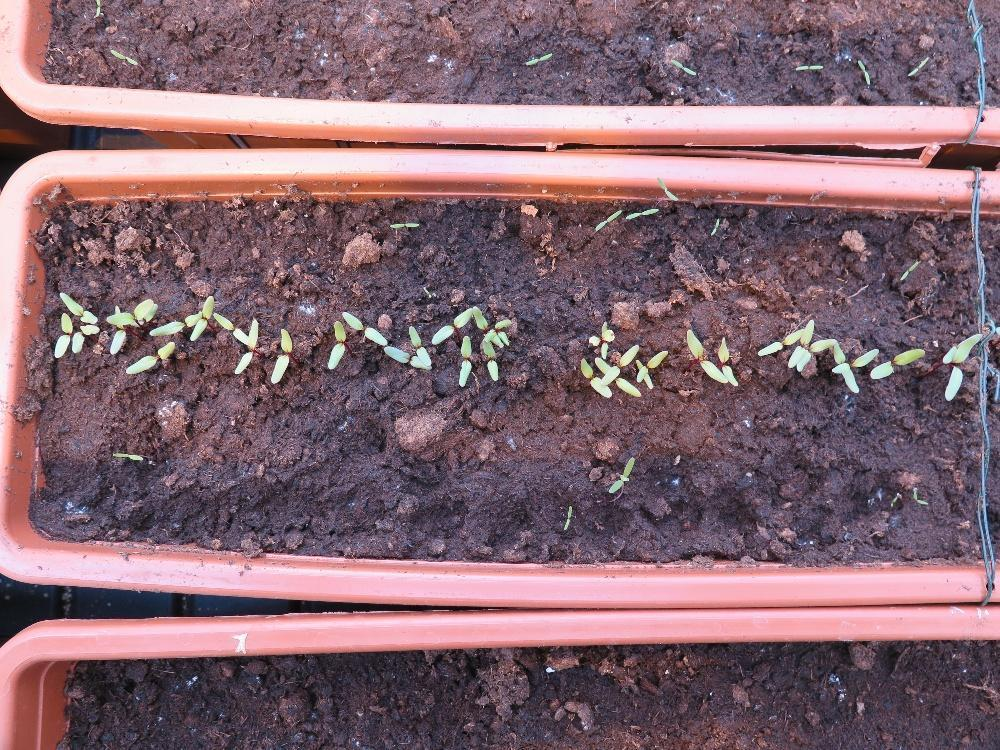crop: (123, 338, 175, 375), (268, 325, 292, 385), (456, 334, 471, 387)
weed: (607, 455, 634, 493), (593, 207, 621, 232), (654, 174, 679, 202), (107, 47, 137, 65), (668, 56, 696, 75), (622, 205, 659, 219), (906, 55, 929, 76), (522, 50, 552, 65), (898, 258, 918, 280), (855, 58, 870, 86), (111, 450, 143, 461), (911, 487, 928, 505), (386, 221, 420, 229), (793, 62, 823, 71), (562, 502, 571, 531), (709, 215, 719, 235)
